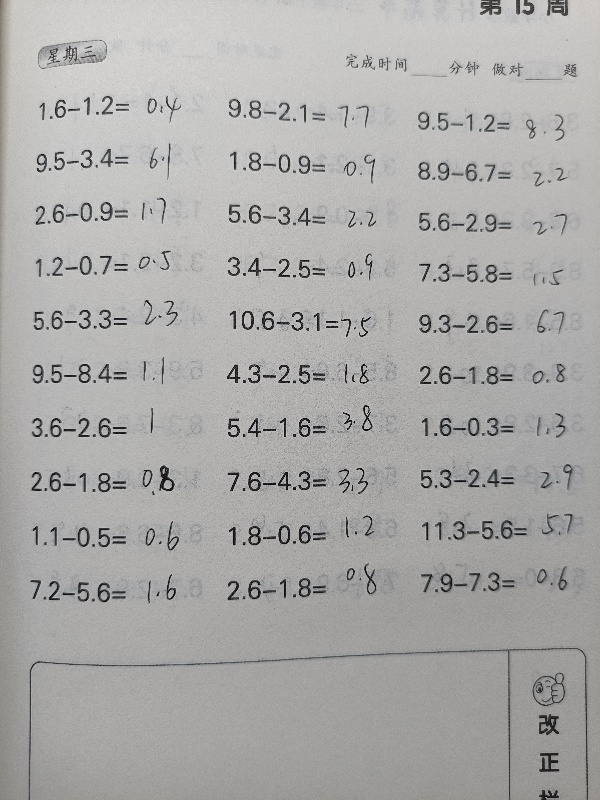equation: (220, 460, 400, 502), (26, 190, 206, 231), (220, 304, 400, 341), (22, 573, 202, 609), (218, 570, 398, 606), (24, 519, 204, 555), (221, 517, 401, 553), (413, 512, 593, 548), (23, 464, 203, 500), (24, 410, 204, 446), (23, 355, 203, 391), (218, 249, 398, 285), (26, 246, 206, 282), (27, 141, 207, 177), (411, 564, 591, 599), (219, 410, 399, 445), (410, 357, 590, 392), (218, 357, 398, 392), (409, 306, 589, 341), (24, 302, 204, 337), (410, 255, 590, 290), (219, 197, 399, 232), (219, 93, 399, 128), (31, 89, 211, 124), (411, 461, 591, 495), (413, 410, 593, 444), (409, 205, 589, 239), (409, 155, 589, 189), (221, 146, 401, 180), (408, 105, 588, 139)
